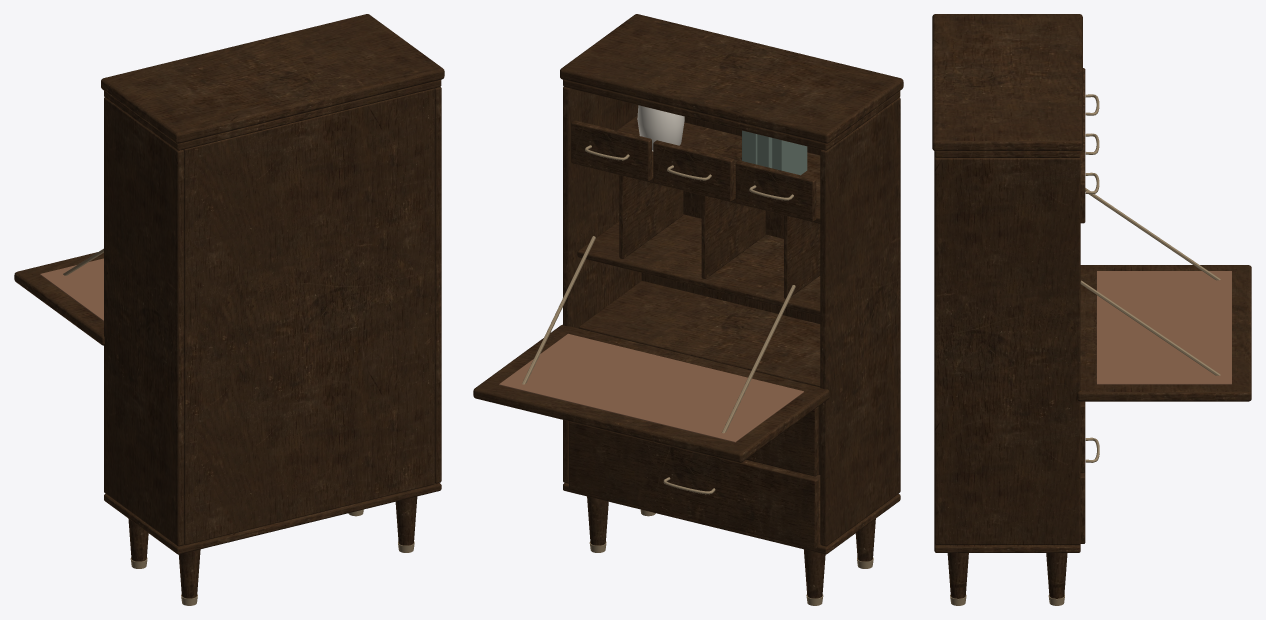
Rendered from crafted-secretary-bureau.glb.
3 renders of one model, left to right at view 1: azimuth 30°, elevation 25°; view 2: azimuth 150°, elevation 25°; view 3: azimuth 270°, elevation 25°, orthographic. The views are drawn at different scales.
Visible parts, largest first — view 1: walnut_surfaces, leather_surfaces, bronze_surfaces; view 2: walnut_surfaces, leather_surfaces, bronze_surfaces, binding_surfaces, ceramic_surfaces; view 3: walnut_surfaces, leather_surfaces, bronze_surfaces.
Part boxes in pixels (x1,y1,x2,y2): walnut_surfaces: (14,14,444,598); leather_surfaces: (40,258,103,321); bronze_surfaces: (63,248,414,605); walnut_surfaces: (473,14,903,598); leather_surfaces: (499,333,803,442); bronze_surfaces: (522,145,873,605); binding_surfaces: (742,130,807,175); ceramic_surfaces: (637,105,684,151); walnut_surfaces: (932,14,1251,598); leather_surfaces: (1096,271,1231,384); bronze_surfaces: (950,94,1220,605).
Bounding box in the file's own units: 0.956 × 1.64 × 1.
Materials: 6 (1 with a texture image).
